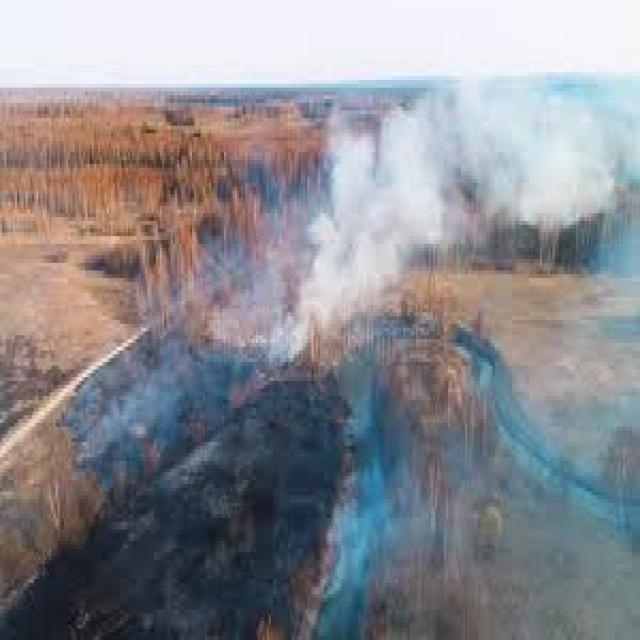Smoke: (318, 46, 624, 213), (273, 86, 434, 373), (586, 202, 640, 640)
